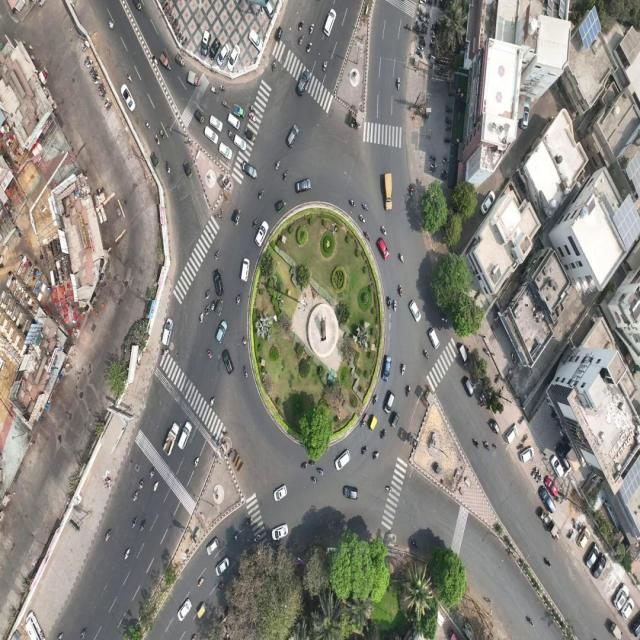3W: (182, 160, 192, 179), (490, 419, 500, 435), (194, 109, 204, 125), (391, 412, 400, 429), (232, 208, 240, 227), (175, 53, 185, 68), (198, 602, 207, 618), (150, 152, 159, 168), (246, 130, 256, 143), (276, 200, 286, 213), (216, 299, 223, 317), (370, 415, 377, 431), (133, 0, 142, 12), (276, 26, 282, 42)
Cars: (25, 611, 46, 640), (539, 486, 556, 513), (613, 584, 629, 612), (295, 71, 312, 97), (480, 189, 496, 216), (121, 84, 136, 112), (591, 553, 607, 579), (178, 422, 192, 451), (255, 220, 269, 247), (334, 448, 350, 471), (162, 317, 174, 347), (177, 598, 192, 622), (248, 28, 262, 52), (228, 44, 240, 72), (324, 8, 336, 36), (215, 320, 228, 345), (240, 161, 258, 179), (550, 455, 564, 478), (216, 44, 230, 67), (272, 522, 288, 542), (213, 268, 224, 297), (520, 100, 530, 130), (199, 30, 210, 57), (222, 350, 234, 374), (286, 124, 298, 148), (377, 238, 390, 260), (505, 423, 518, 445), (384, 390, 395, 415), (382, 355, 392, 382), (274, 483, 288, 502), (409, 300, 421, 322), (206, 536, 219, 556), (545, 477, 558, 497), (577, 528, 590, 548), (295, 178, 311, 194), (458, 344, 469, 367), (216, 558, 230, 576), (209, 114, 222, 133), (205, 126, 218, 145), (429, 328, 440, 350), (219, 141, 232, 159), (234, 133, 247, 151), (520, 447, 534, 463), (463, 377, 474, 397), (241, 258, 250, 282), (228, 112, 240, 130), (262, 1, 274, 19), (344, 485, 358, 500)
LCV: (163, 422, 180, 456), (384, 173, 393, 212), (159, 51, 171, 69), (188, 71, 200, 87), (233, 104, 245, 118), (360, 413, 369, 428)
M2W: (80, 627, 88, 639), (132, 489, 139, 502), (249, 111, 256, 124), (282, 169, 289, 182), (322, 59, 329, 72), (105, 528, 111, 543), (210, 86, 219, 96), (124, 548, 131, 560), (140, 518, 146, 532), (193, 456, 200, 468), (472, 438, 479, 450), (227, 128, 233, 142), (271, 59, 277, 73), (161, 348, 169, 358), (222, 100, 230, 110), (204, 288, 210, 301), (132, 516, 138, 529), (138, 476, 144, 489), (214, 249, 220, 262), (164, 161, 170, 174), (144, 119, 151, 130), (274, 159, 281, 170), (297, 35, 304, 46), (521, 433, 528, 444), (206, 347, 212, 359), (236, 294, 242, 306), (150, 467, 156, 479), (159, 128, 165, 140), (127, 72, 133, 84), (309, 23, 315, 35), (306, 41, 312, 53), (511, 352, 517, 364), (484, 348, 491, 358), (108, 20, 115, 30), (568, 528, 574, 539), (258, 189, 264, 200), (152, 54, 158, 65), (298, 20, 304, 31), (385, 486, 393, 494), (445, 106, 453, 114), (443, 136, 451, 144), (419, 33, 427, 41), (316, 467, 323, 476), (361, 446, 368, 455), (362, 203, 369, 212), (205, 304, 210, 316), (242, 336, 247, 348), (243, 366, 248, 378), (153, 481, 158, 493), (198, 577, 204, 587), (218, 582, 224, 592), (232, 533, 238, 543), (247, 516, 253, 526), (381, 226, 387, 236), (364, 231, 370, 241), (483, 441, 489, 451), (155, 134, 160, 146), (311, 476, 318, 484), (349, 199, 356, 207), (445, 117, 452, 125), (442, 156, 449, 164), (422, 17, 430, 24), (424, 349, 429, 360), (218, 614, 224, 623), (360, 214, 366, 223), (414, 20, 420, 29), (545, 558, 551, 567), (527, 616, 533, 625), (518, 415, 524, 424), (210, 397, 215, 407), (381, 429, 386, 439), (373, 396, 378, 406), (399, 253, 404, 263), (429, 155, 436, 162), (417, 45, 424, 52), (411, 540, 418, 547), (211, 300, 215, 312), (402, 364, 406, 376), (407, 385, 411, 397), (440, 175, 448, 181), (253, 218, 257, 230), (218, 85, 226, 91), (418, 6, 423, 15), (254, 535, 260, 542), (302, 463, 308, 470), (309, 460, 316, 466), (388, 296, 391, 310), (448, 90, 455, 96), (445, 126, 452, 132), (428, 167, 435, 173), (249, 105, 255, 112), (394, 300, 397, 313), (397, 77, 400, 90), (399, 286, 402, 298), (410, 184, 413, 196), (431, 162, 437, 168), (374, 452, 379, 459), (200, 312, 203, 323), (225, 607, 228, 617), (441, 170, 448, 173)
